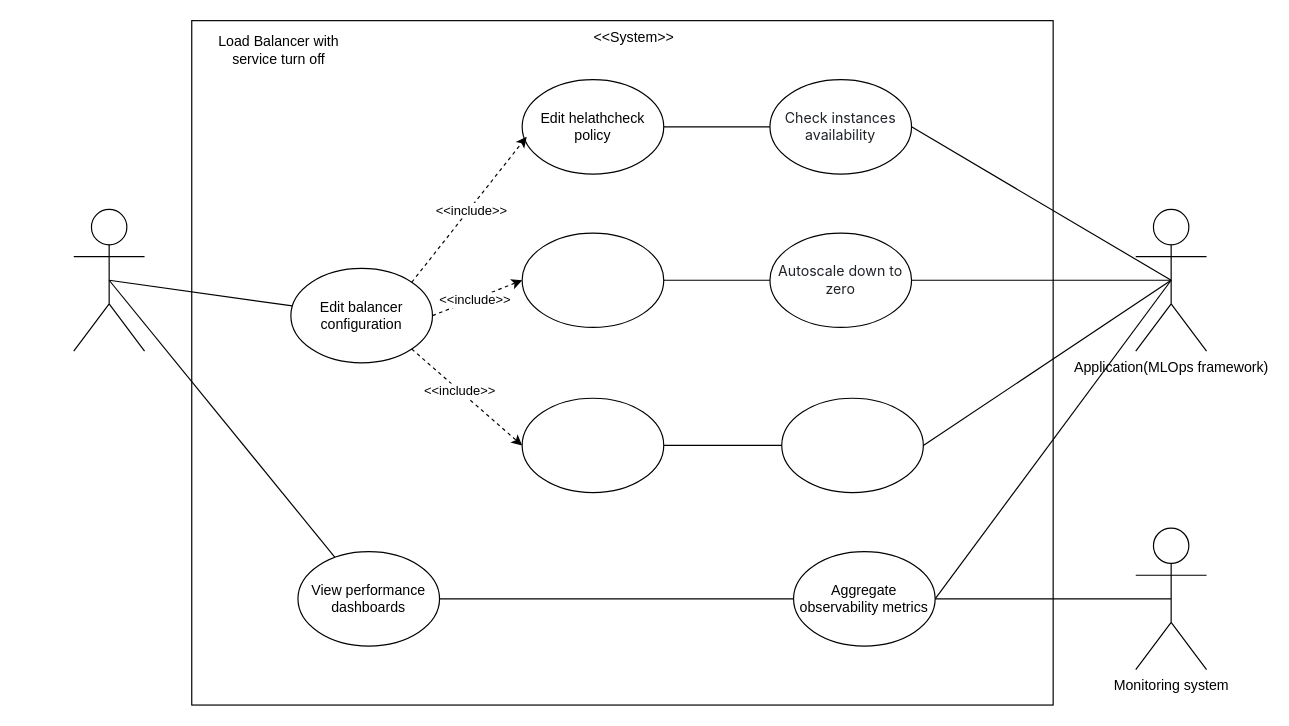
The diagram is 1289 pixels wide and 726 high, and some of its shapes have lost their labels. The shapes that lost their labels are listed below. From the top down, each one's box as (x1, y1, x2, y2) in pixels, then its label:
(73, 208, 145, 351): Engineer (DevOps / MLOps)
(521, 232, 664, 327): Edit scaling policy
(521, 397, 664, 493): Edit allocation policy
(781, 397, 923, 493): Allocate resources
